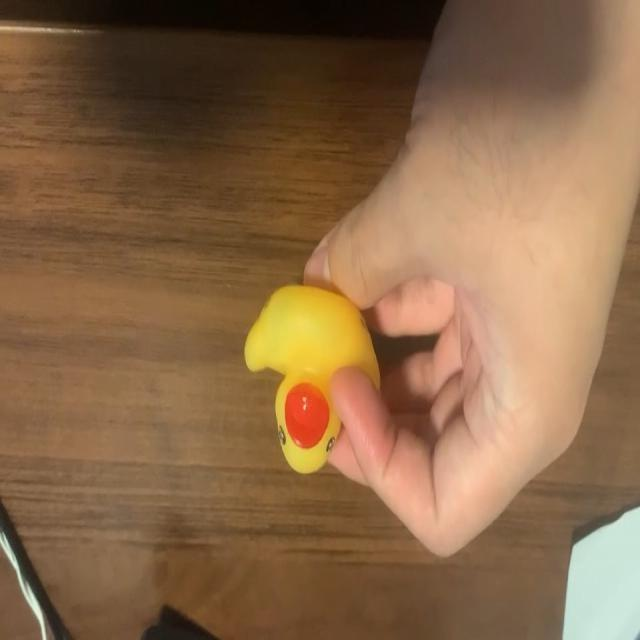rubber-duck: (243, 284, 378, 471)
